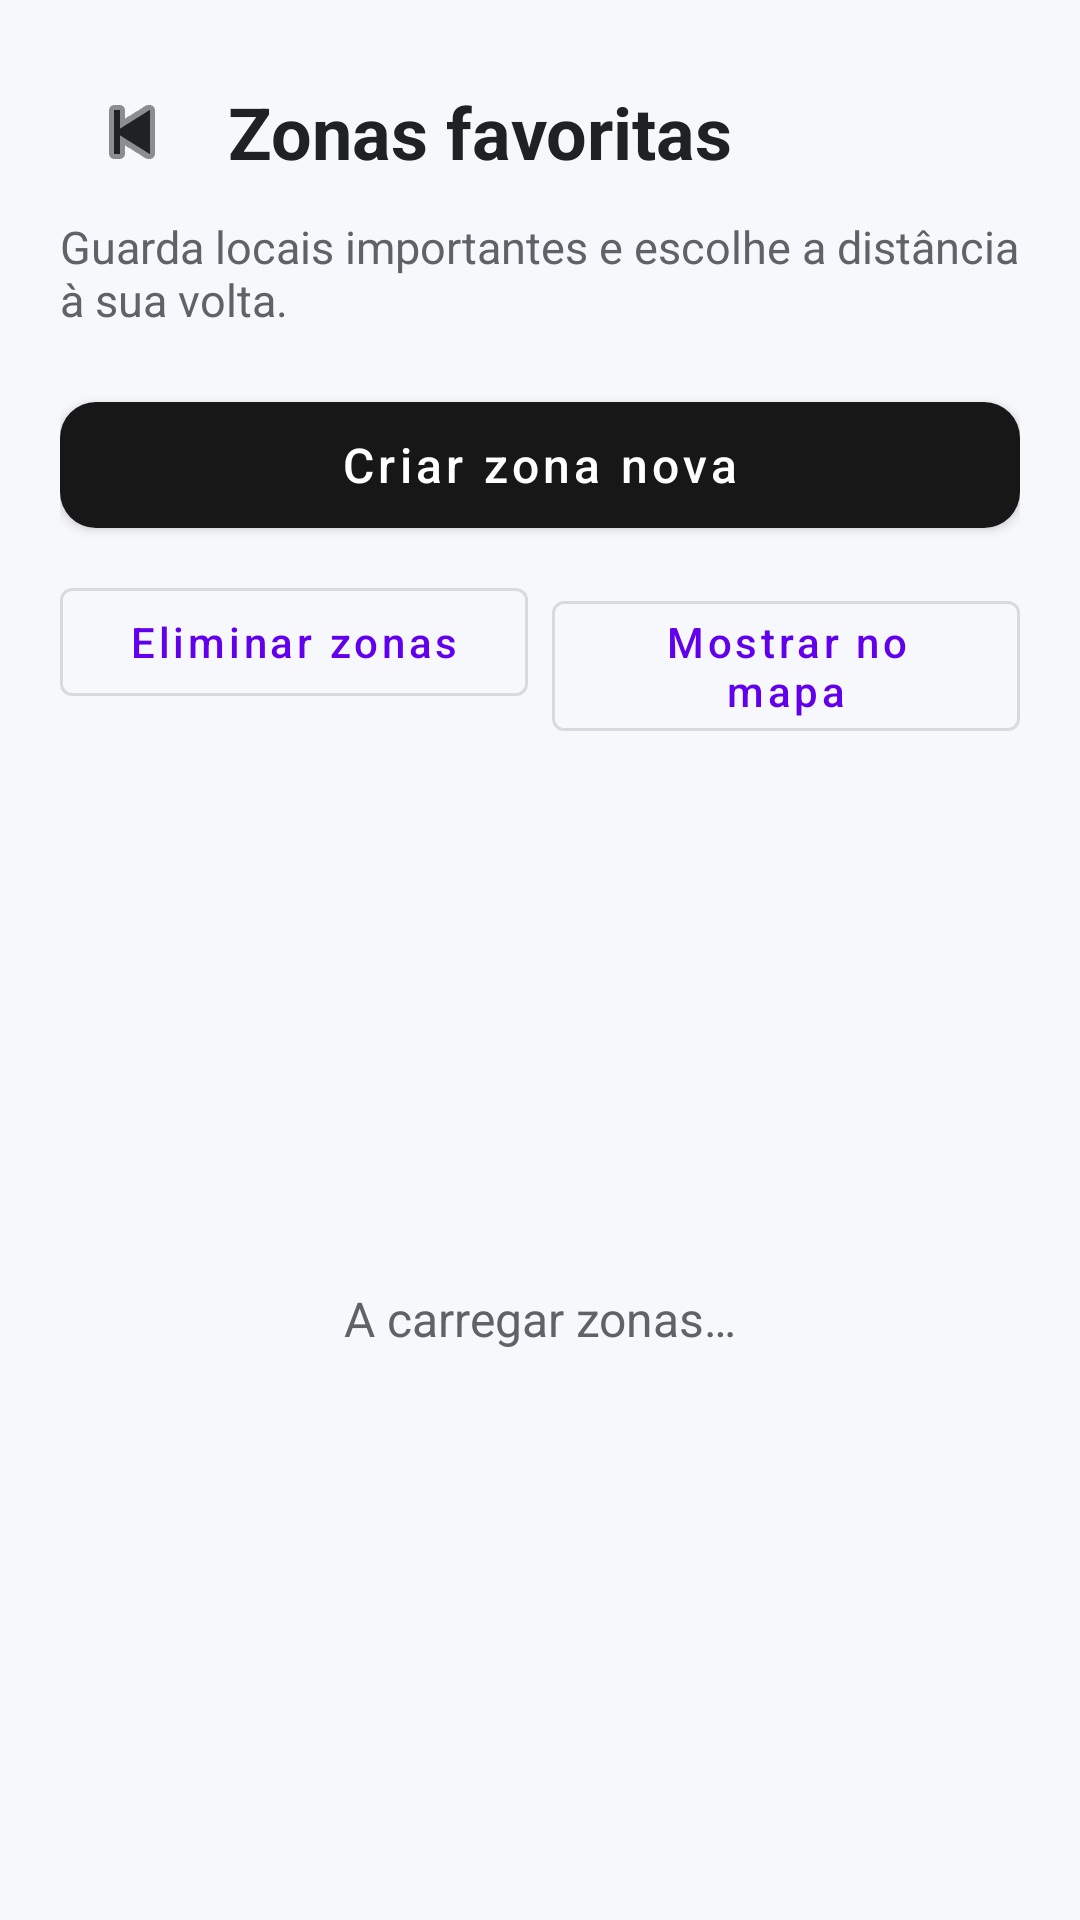

Named icons in this screenshot (1080*1920) and their bounding boxes, (x1, y1, x2, y2):
Voltar: (109, 105, 155, 159)
